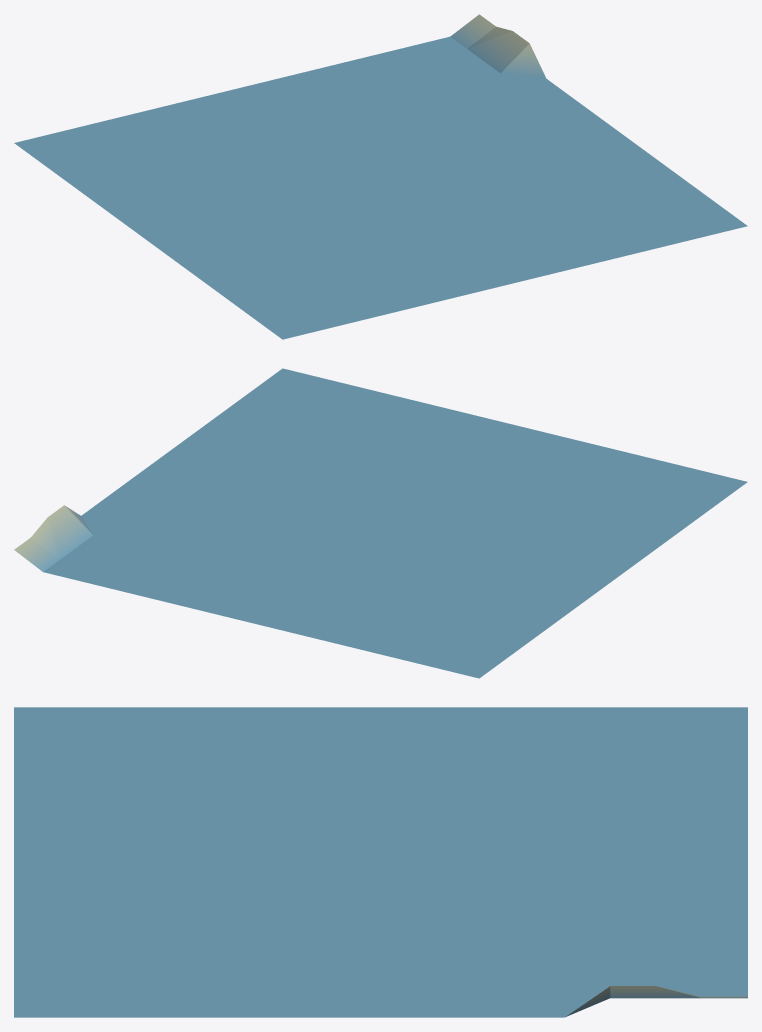
3 renders of one model, top to bottom at view 1: azimuth 30°, elevation 25°; view 2: azimuth 150°, elevation 25°; view 3: azimuth 270°, elevation 25°, orthographic. The views are drawn at different scales.
Bounding box in the file's own units: 32 × 1.51 × 32.
